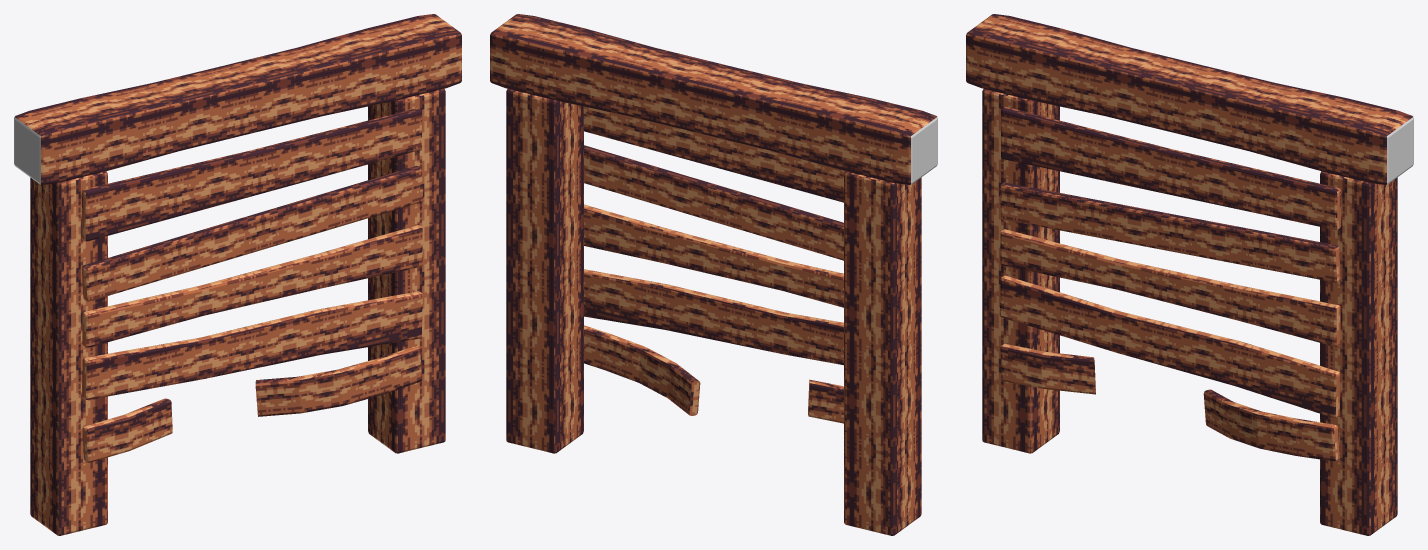
Rendered from VigaMadera 02.fbx.
3 views of the same model, side by side, from view 1: azimuth 30°, elevation 25°; view 2: azimuth 150°, elevation 25°; view 3: azimuth 330°, elevation 25° (orthographic).
Parts seen in each view (by area): view 1: VigaMadera.002; view 2: VigaMadera.002; view 3: VigaMadera.002.
Boxes of the visible parts, x1,y1,x2,y2 form: VigaMadera.002: (14, 14, 461, 535); VigaMadera.002: (490, 14, 937, 535); VigaMadera.002: (966, 14, 1413, 535).
Bounding box in the file's own units: 2.5 × 0.35 × 2.3.
